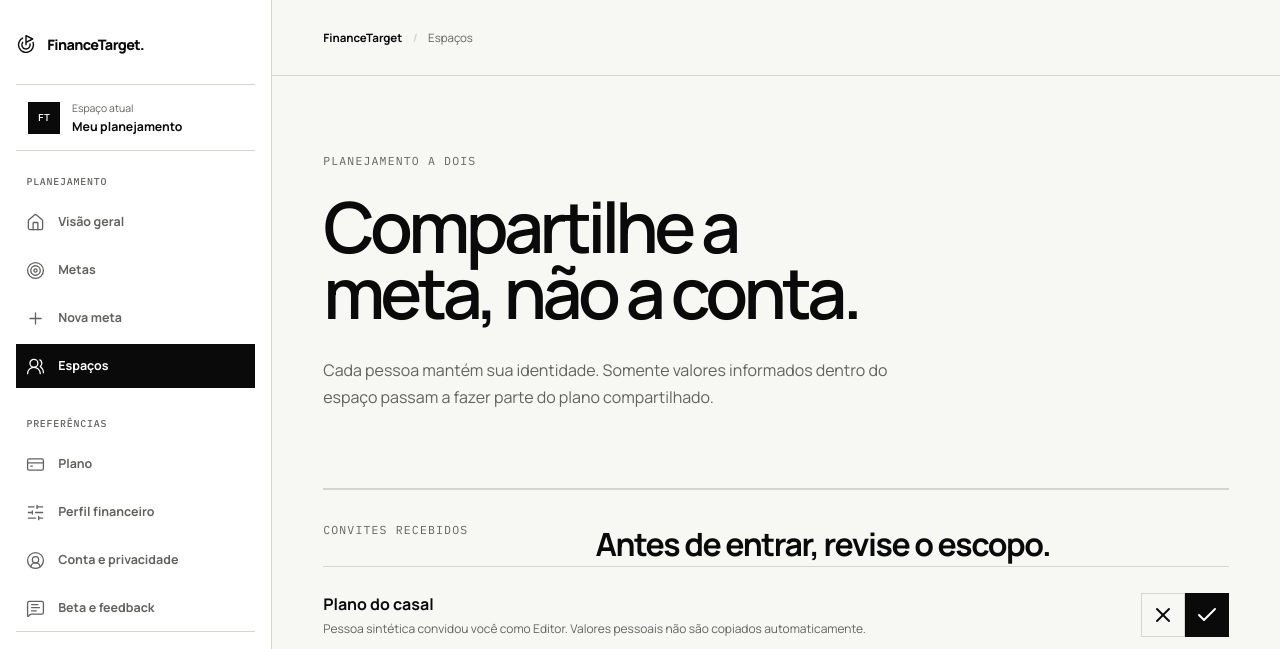
Test: colaboração e beta › explica o escopo do convite e aceita somente por ação explícita
Expected: the heading "Antes de entrar, revise o escopo." is shown, [595,522,1050,566]
Expected: the text "Valores pessoais não são copiados automaticamente" is shown, [565,620,866,637]
Click the button named "Aceitar convite para Plano do casal". click: x=1207, y=615
box: [1185,593,1229,637]
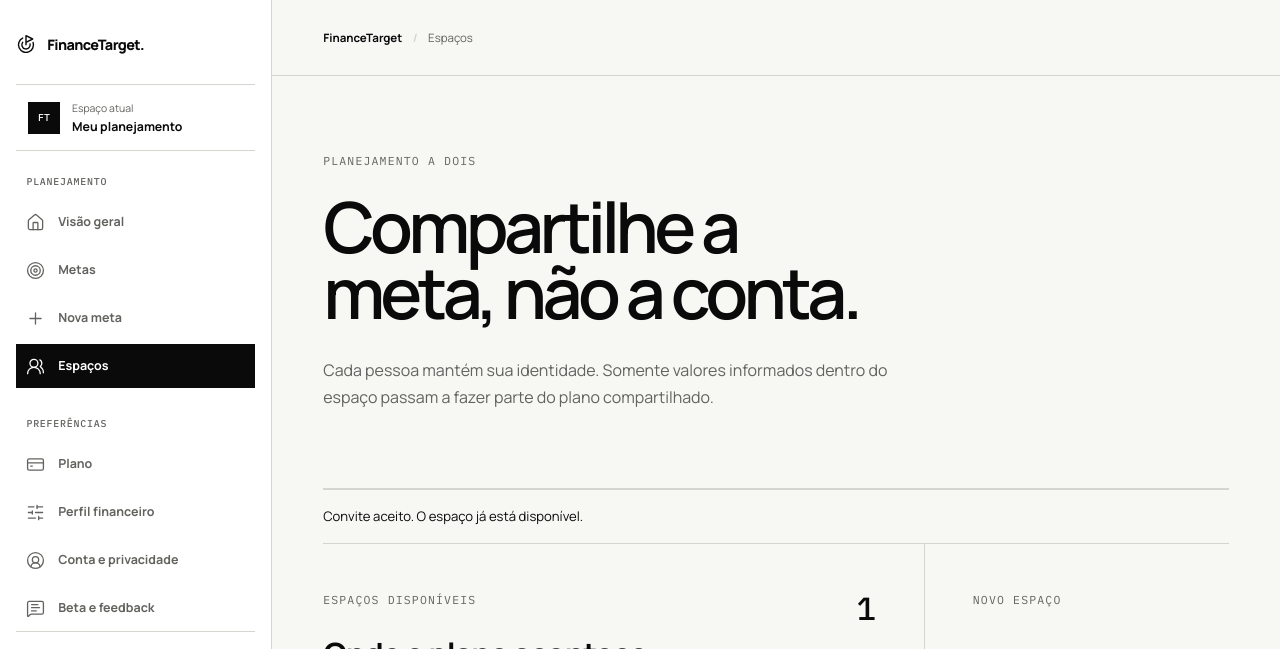
Now the text "Plano do casal" is gone
